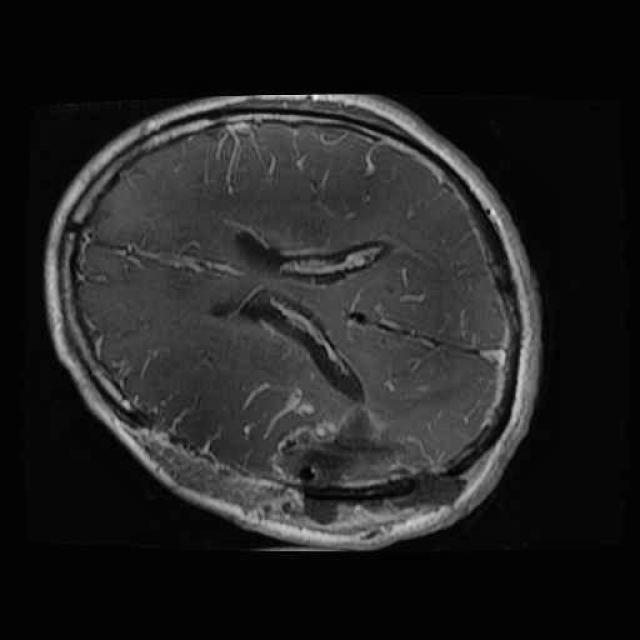Non-Tumor: (270, 390, 479, 536)
